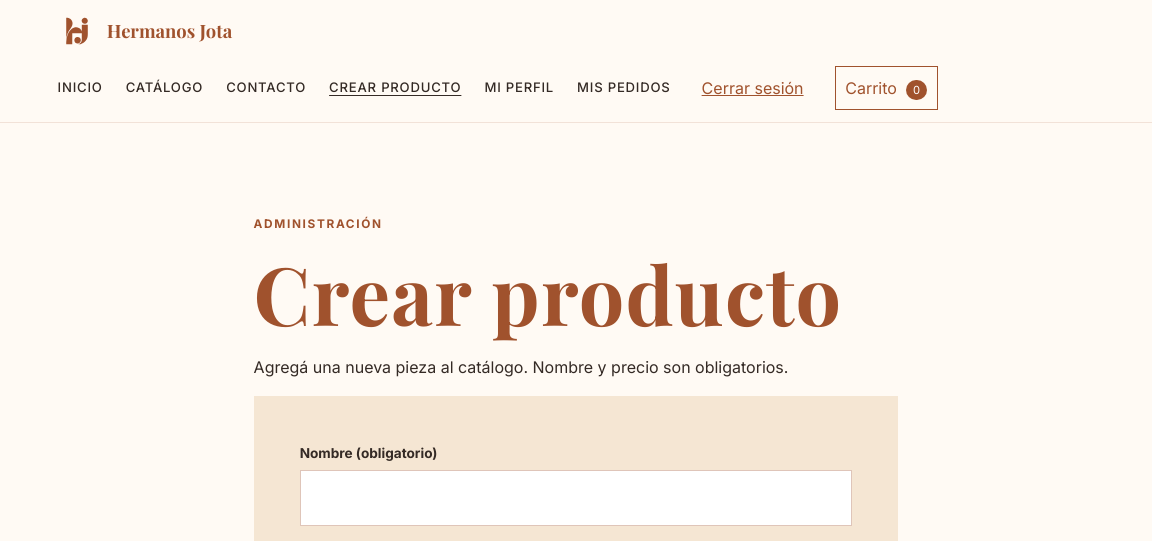
Scenario: alta rechaza datos inválidos sin enviar POST: {"nombre":"Mesa","precio":"-1","stock":""}
This screenshot has width=1152, height=541.
Expected: the heading "Crear producto" is shown, [254,249,898,338]
Type "Mesa" into the field labelled "Nombre (obligatorio)".
click(576, 498); type("Mesa")  # box [300,470,852,526]
(page scrolled)
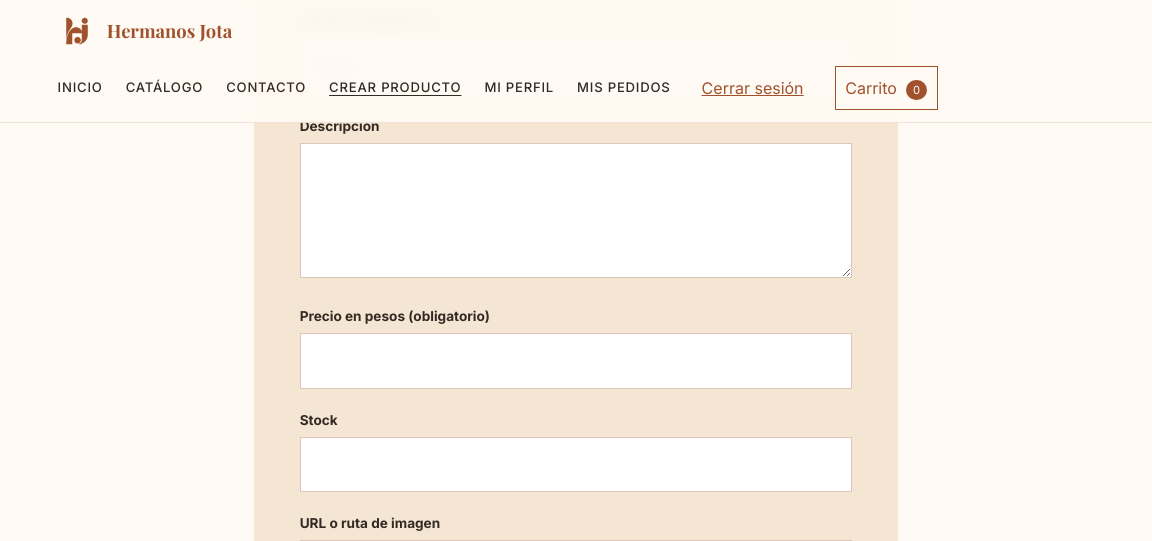
Type "-1" into the number field labelled "Precio en pesos (obligatorio)".
click(576, 361); type("-1")  # box [300,333,852,389]
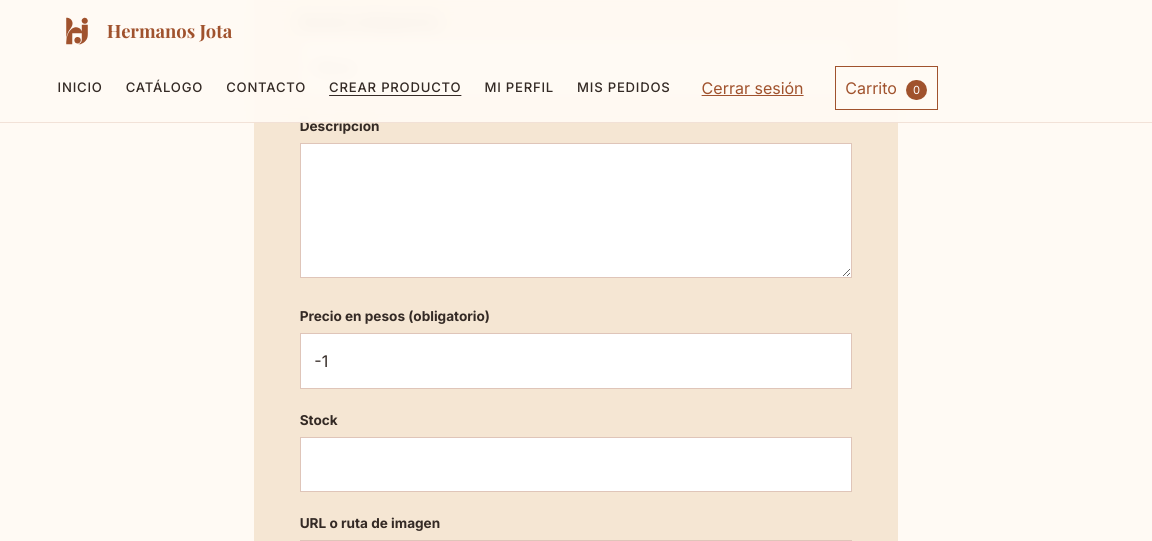
Clear the number field labelled "Stock" at (576, 464), box [300,437,852,492]
(page scrolled)
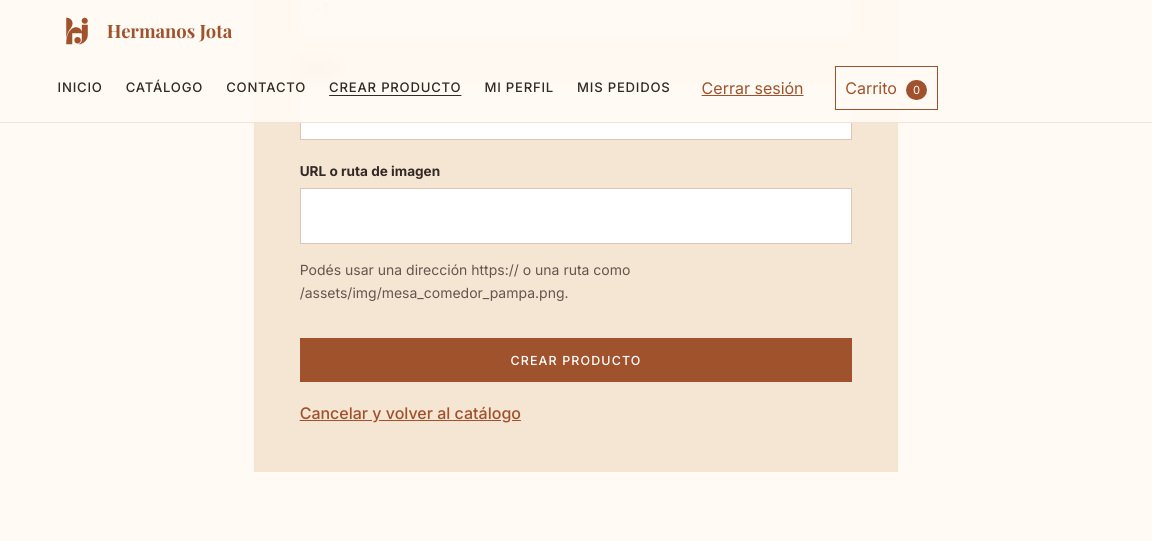
Click the button "Crear producto".
click(576, 360)  # box [300,338,852,382]
(page scrolled)
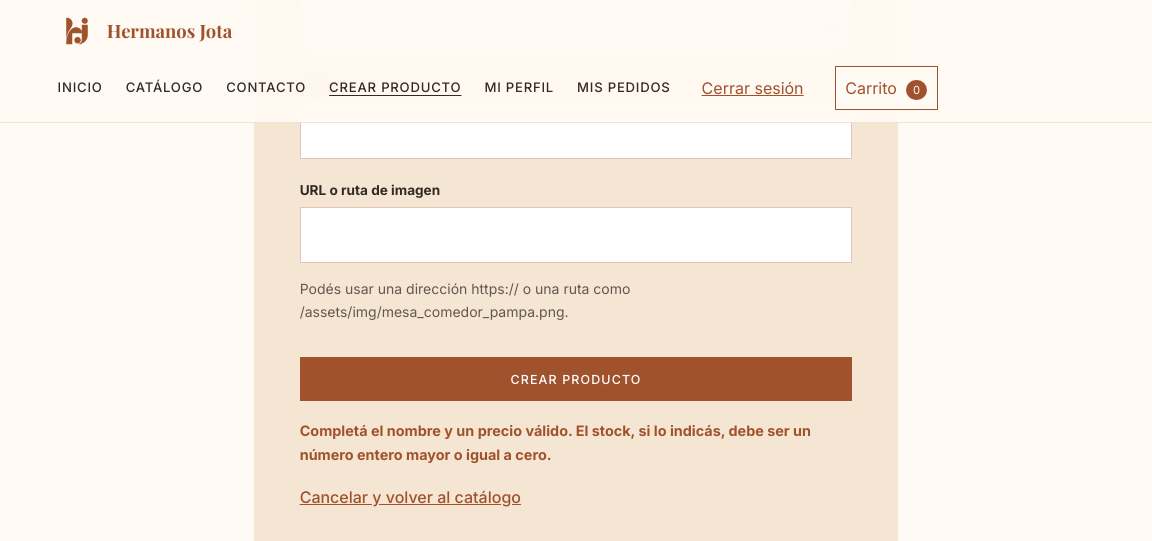
Expected: the message is shown, [300,419,852,466]
